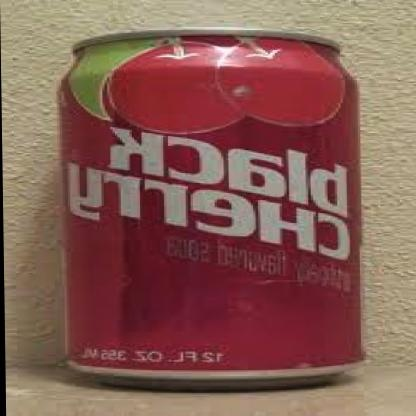trash: (60, 31, 361, 387)
